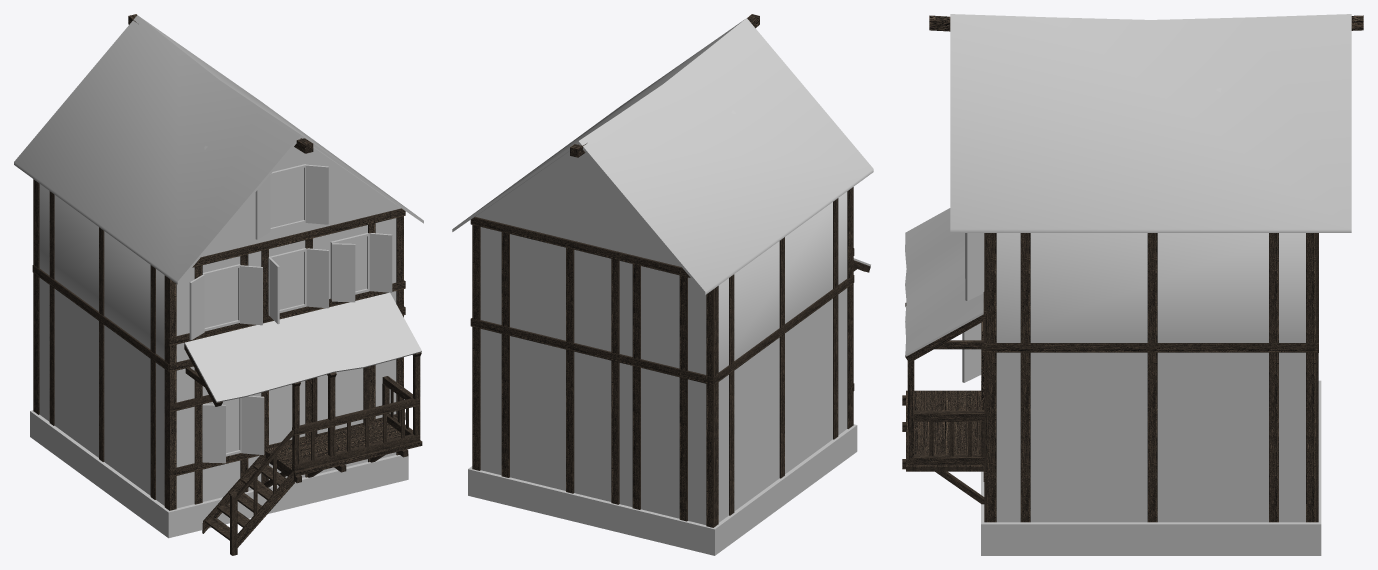
Rendered from house2.fbx.
3 views of the same model, side by side, from view 1: azimuth 30°, elevation 25°; view 2: azimuth 150°, elevation 25°; view 3: azimuth 270°, elevation 25° (orthographic). The views are drawn at different scales.
Visible parts, largest first — view 1: Mesh Object; view 2: Mesh Object; view 3: Mesh Object.
Part boxes in pixels (left/top/right/bottom): Mesh Object: left=14, top=14, right=423, bottom=555; Mesh Object: left=452, top=14, right=873, bottom=555; Mesh Object: left=902, top=14, right=1363, bottom=555.
Size of the model in its own units: 8.2 by 12.34 by 10.85.
